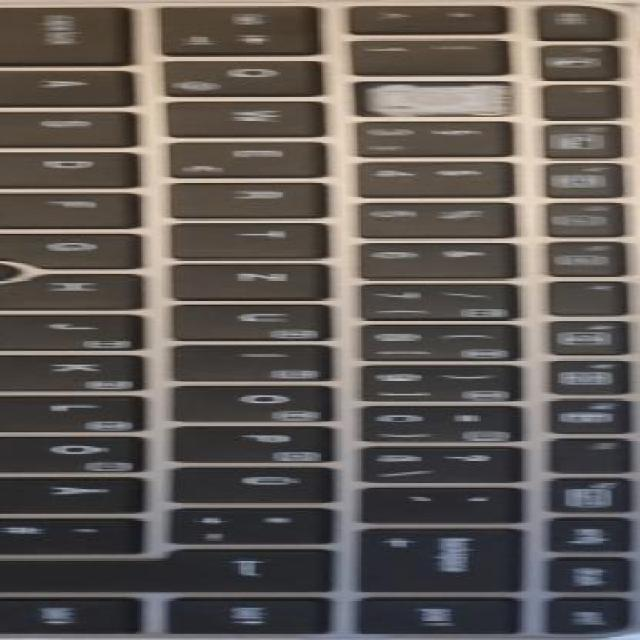Keyboard problems: (355, 83, 508, 115)
